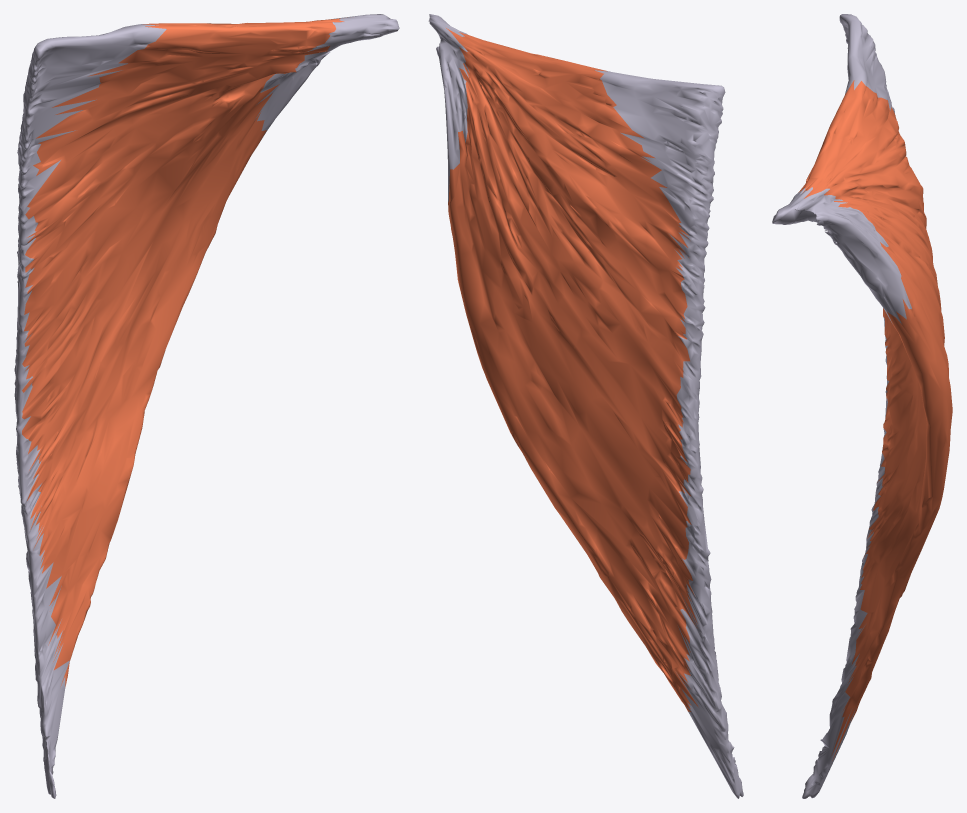
The model's file is Descending_part_of_trapezius_muscle.l_Generated_Mesh_From_X3D.9.glb.
The picture shows the model from 3 angles, left to right: view 1: azimuth 30°, elevation 25°; view 2: azimuth 150°, elevation 25°; view 3: azimuth 270°, elevation 25°; orthographic projection. The views are drawn at different scales.
Parts seen in each view (by area): view 1: Descending_part_of_trapezius_muscle.l_Generated_Mesh_From_X3; view 2: Descending_part_of_trapezius_muscle.l_Generated_Mesh_From_X3; view 3: Descending_part_of_trapezius_muscle.l_Generated_Mesh_From_X3.
Boxes of the visible parts, bbox=[...] form: Descending_part_of_trapezius_muscle.l_Generated_Mesh_From_X3: bbox=[14, 14, 399, 798]; Descending_part_of_trapezius_muscle.l_Generated_Mesh_From_X3: bbox=[428, 14, 743, 798]; Descending_part_of_trapezius_muscle.l_Generated_Mesh_From_X3: bbox=[772, 14, 952, 798].
Size of the model in its own units: 0.1389 by 0.2942 by 0.0611.
